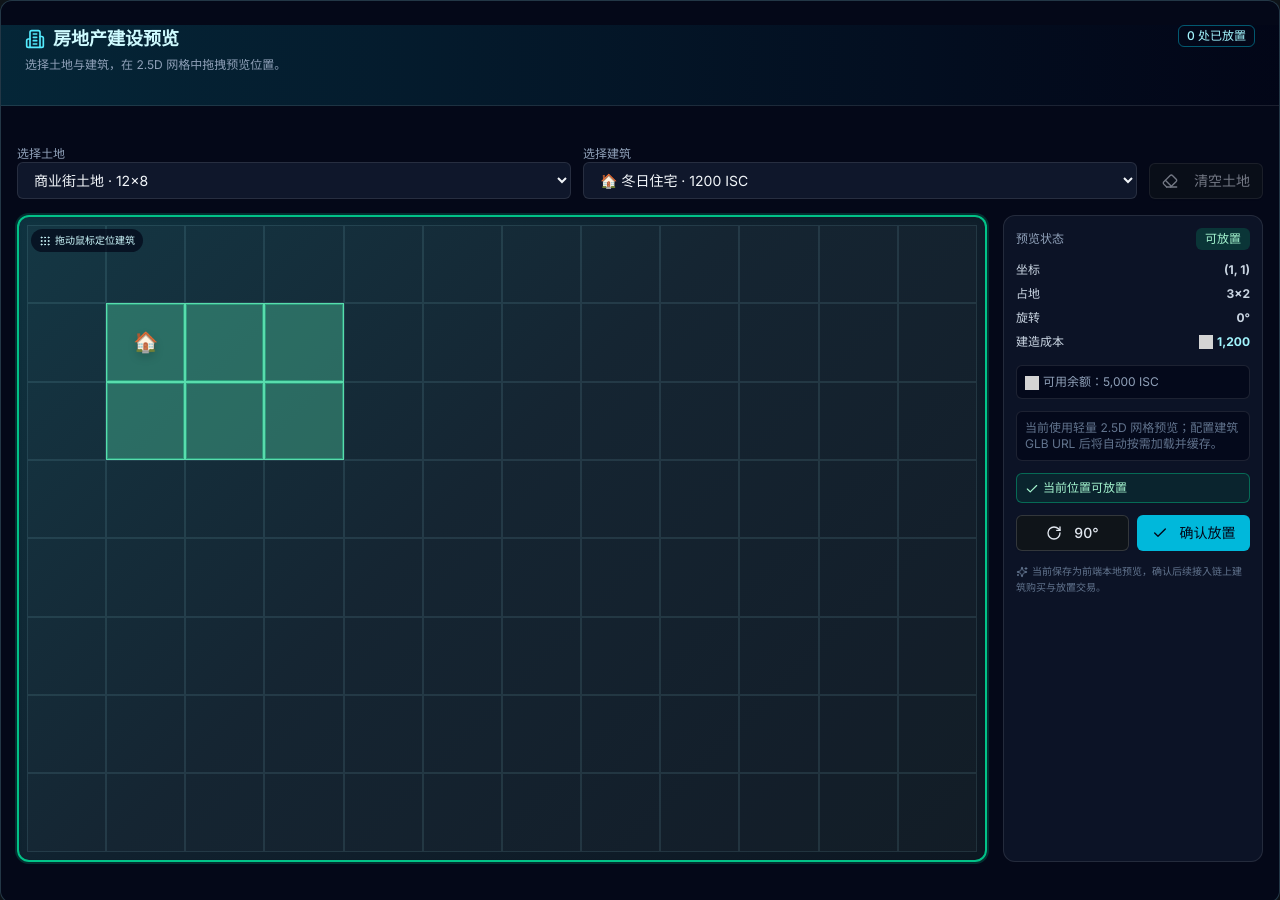
Test: RealEstatePlacementManager › rotates and confirms a valid local placement when balance is sufficient
Click the button "90°".
click(1072, 533)  # box [1016,515,1129,551]
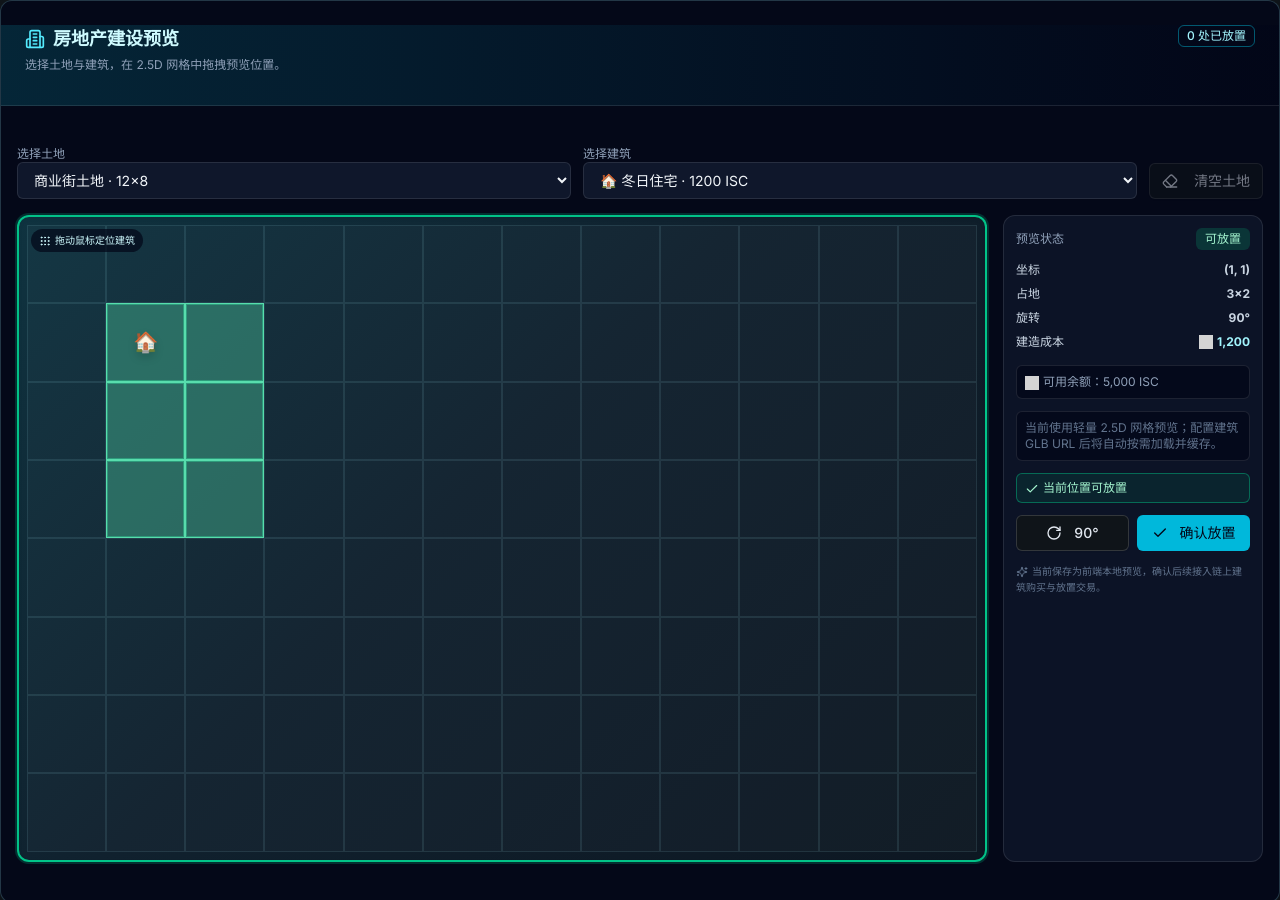
Click the button "确认放置".
click(1194, 533)  # box [1137,515,1250,551]
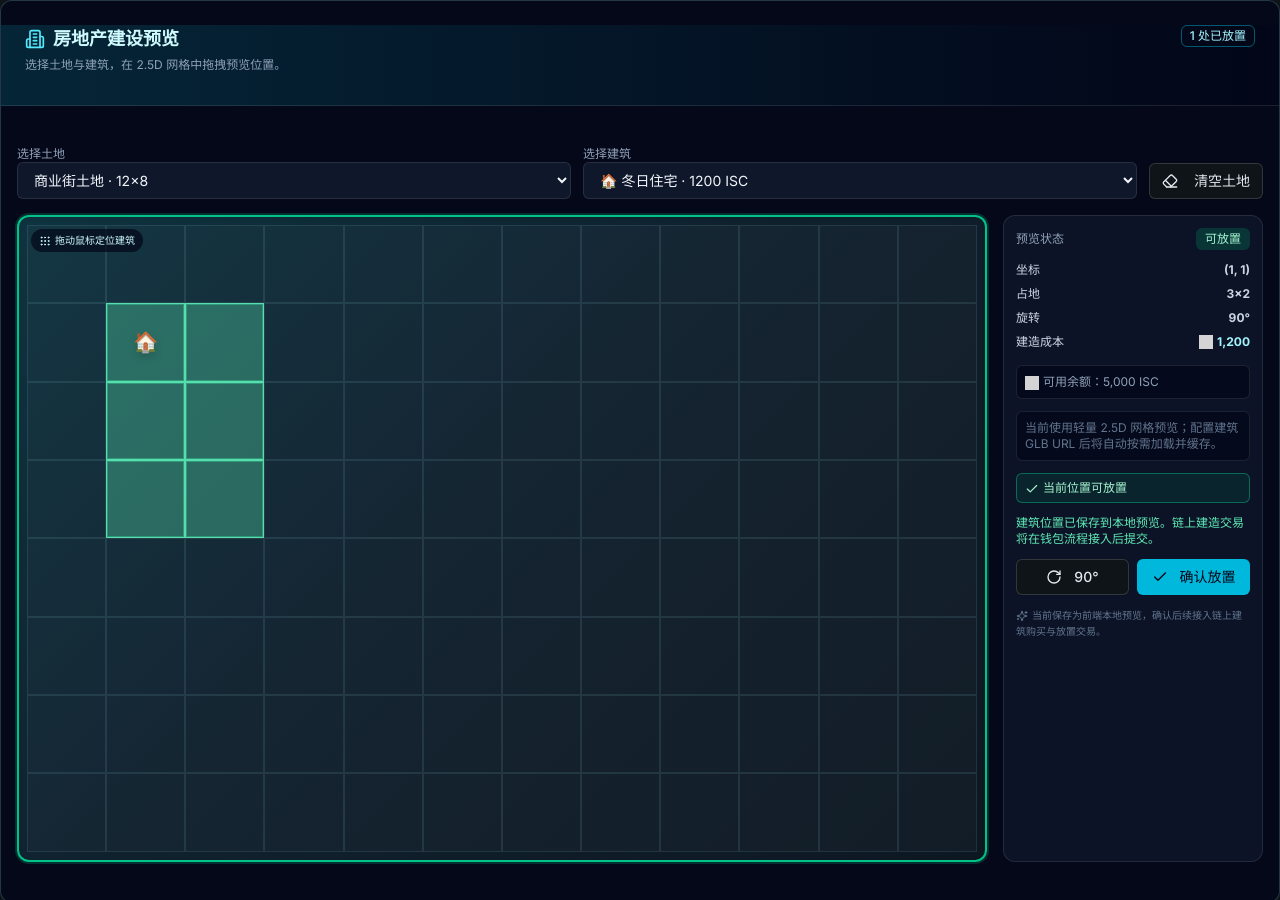
Result: the text "建筑位置已保存到本地预览。链上建造交易将在钱包流程接入后提交。" is shown at [1016,515,1250,547]
